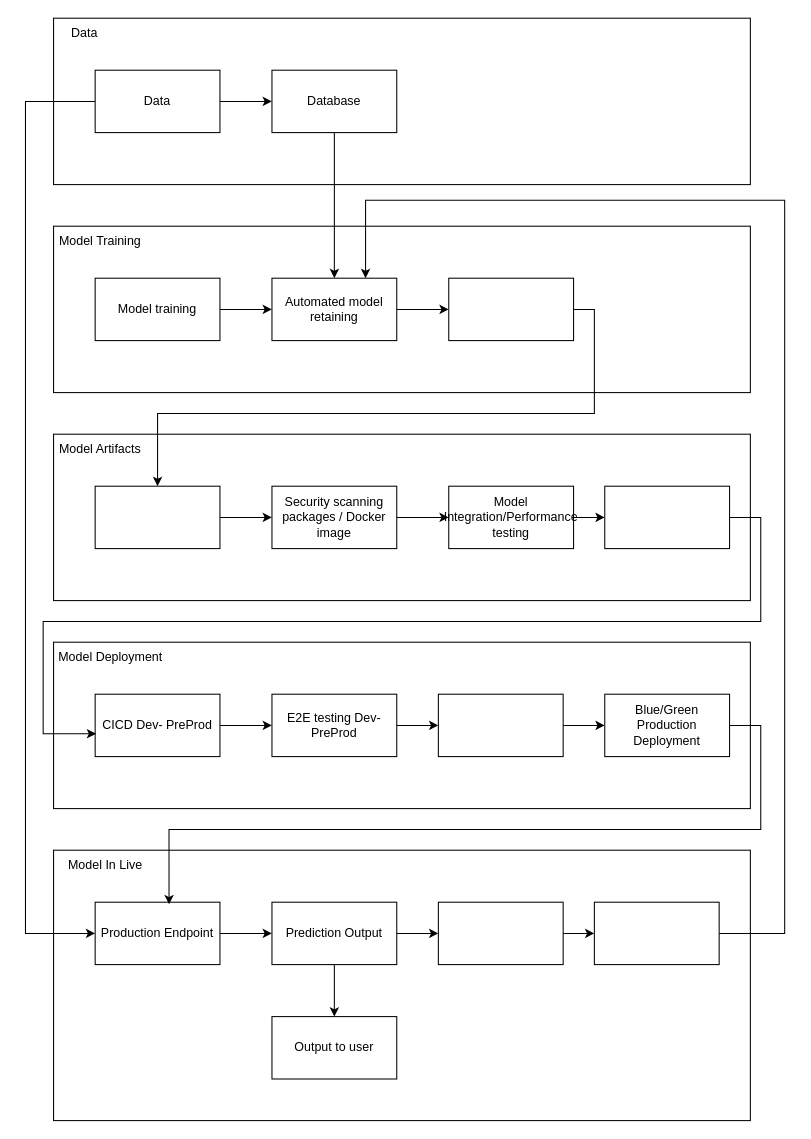
This 811x1139 diagram has some shape labels left out. The centre of each missing label's shape, as x and y in pixels:
"Automated Alerting" belongs at point (656, 933).
"Champion Challenger comparison between models" belongs at point (511, 309).
"Data Science Approval and Signoff" belongs at point (667, 517).
"Engineering Signoff" belongs at point (500, 725).
"Generated Artifacts" belongs at point (157, 517).
"Model monitoring comparing endpoint outputs to base dataset" belongs at point (500, 933).
